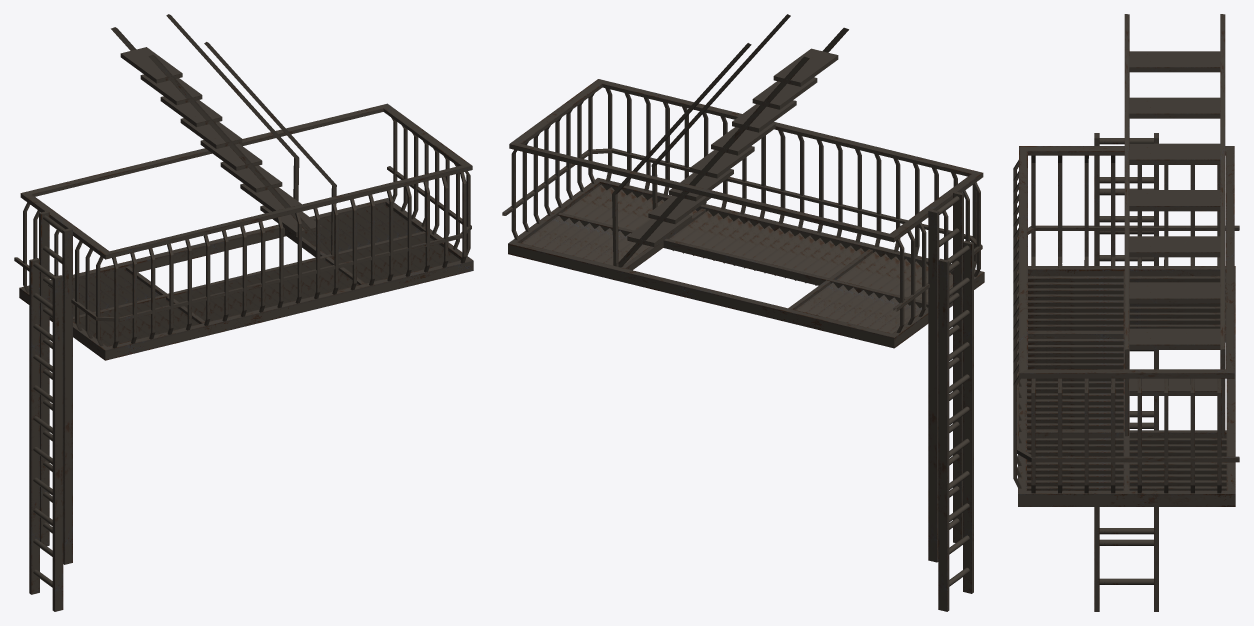
The model's file is Prop_FireEscape_Bottom.gltf.
3 views of the same model, side by side, from view 1: azimuth 30°, elevation 25°; view 2: azimuth 150°, elevation 25°; view 3: azimuth 270°, elevation 25° (orthographic). The views are drawn at different scales.
Visible parts, largest first — view 1: Prop_FireEscape_Bottom; view 2: Prop_FireEscape_Bottom; view 3: Prop_FireEscape_Bottom.
Part boxes in pixels (bbox=[...]): Prop_FireEscape_Bottom: bbox=[14, 14, 473, 611]; Prop_FireEscape_Bottom: bbox=[502, 14, 984, 611]; Prop_FireEscape_Bottom: bbox=[1013, 14, 1239, 611].
Bounding box in the file's own units: 5.01 × 6.35 × 1.98.
1 material, 1 textured.
